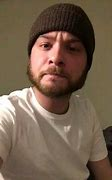person: (25, 3, 96, 99)
